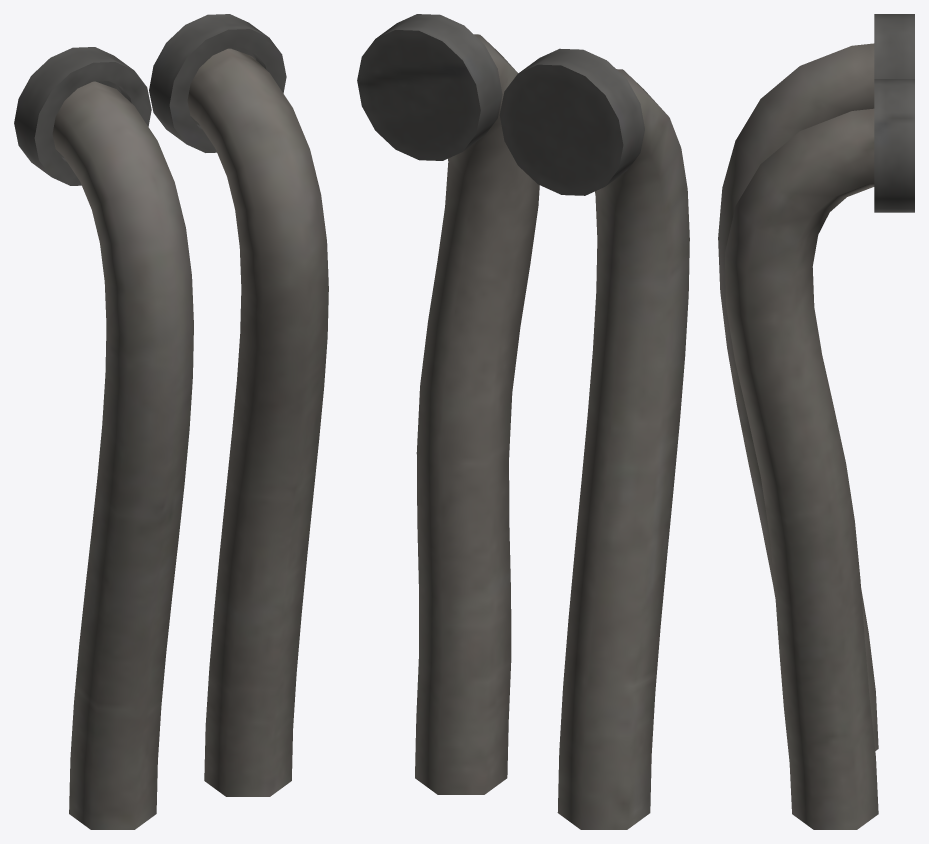
The model's file is cable_double_end.glb.
3 renders of one model, left to right at view 1: azimuth 30°, elevation 25°; view 2: azimuth 150°, elevation 25°; view 3: azimuth 270°, elevation 25°, orthographic. The views are drawn at different scales.
Parts seen in each view (by area): view 1: cable_double_end.001; view 2: cable_double_end.001; view 3: cable_double_end.001.
Part boxes in pixels (bbox=[...]): cable_double_end.001: bbox=[14, 14, 328, 829]; cable_double_end.001: bbox=[357, 14, 689, 829]; cable_double_end.001: bbox=[718, 14, 914, 829].
Bounding box in the file's own units: 0.0373 × 0.1041 × 0.0255.
Materials: 1 (1 with a texture image).
